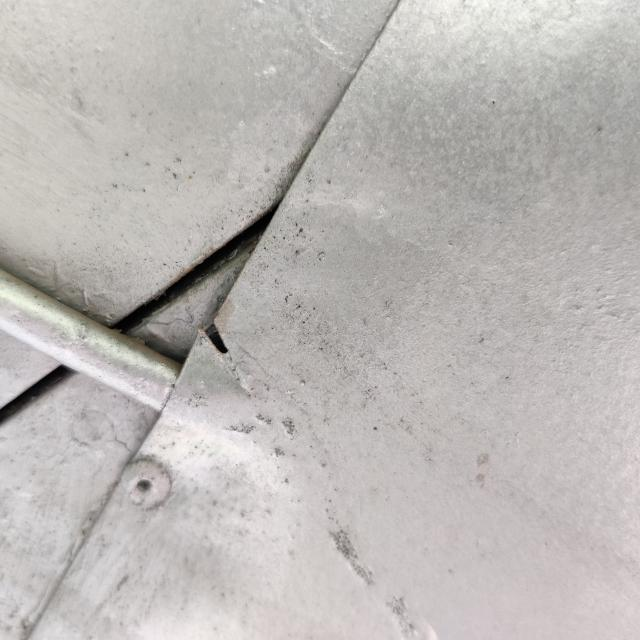crack: (181, 307, 250, 371)
